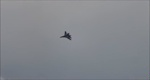maybay_muctieu: (60, 29, 72, 41)
